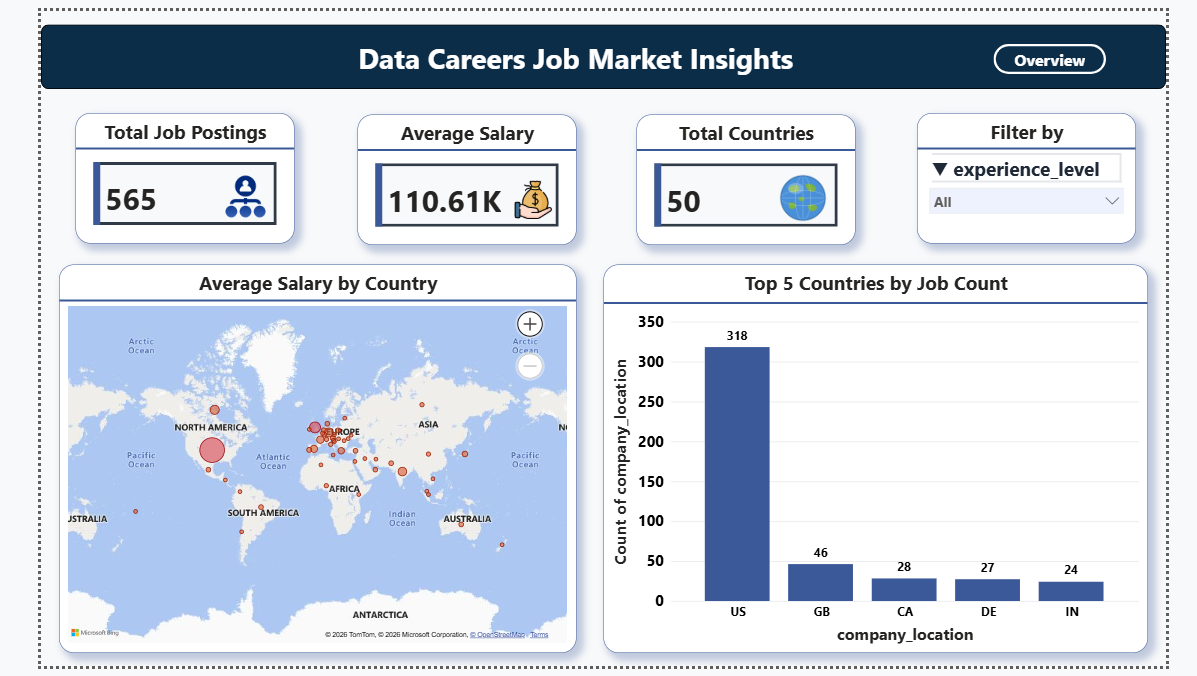

Layout of this report page (visuals, bound fields, positions):
{"tool":"powerbi","page":{"name":"Overview","canvas":[1500,873],"ordinal":0},"visuals":[{"type":"shape","box":[0,18,1500,86],"z":0},{"type":"textbox","box":[380,32,666,72],"z":1000},{"type":"actionButton","box":[1270,44,150,40],"z":2000},{"type":"cardVisual","title":"Total Countries","fields":{"Data":["Count(job_market salaries.company_location)"]},"box":[794,138,292,174],"z":3000},{"type":"cardVisual","title":"Total Job Postings","fields":{"Data":["CountNonNull(job_market salaries.job_title)"]},"box":[46,136,292,174],"z":4000},{"type":"cardVisual","title":"Average Salary","fields":{"Data":["Avg(job_market salaries.salary_in_usd)"]},"box":[422,138,292,174],"z":5000},{"type":"slicer","title":"Filter by","fields":{"Values":["job_market salaries.experience_level"]},"box":[1168,136,292,174],"z":6000},{"type":"map","title":"Average Salary by Country","fields":{"Category":["job_market salaries.company_location"],"Size":["CountNonNull(job_market salaries.salary_in_usd)"]},"box":[24,338,690,518],"z":7000},{"type":"clusteredColumnChart","title":"Top 5 Countries by Job Count","fields":{"Y":["CountNonNull(job_market salaries.company_location)"],"Category":["job_market salaries.company_location"]},"box":[750,338,726,518],"z":8000}]}

Visuals, with their boxes on the page's 1500x873 design canvas (x1, y1, x2, y2). These are canvas units, not pixel positions in the 1197x676 screenshot, which may show the page scaled, cropped or inside an application window:
shape: 0, 18, 1500, 104
textbox: 380, 32, 1046, 104
actionButton: 1270, 44, 1420, 84
"Total Countries" cardVisual: 794, 138, 1086, 312
"Total Job Postings" cardVisual: 46, 136, 338, 310
"Average Salary" cardVisual: 422, 138, 714, 312
"Filter by" slicer: 1168, 136, 1460, 310
"Average Salary by Country" map: 24, 338, 714, 856
"Top 5 Countries by Job Count" clusteredColumnChart: 750, 338, 1476, 856
